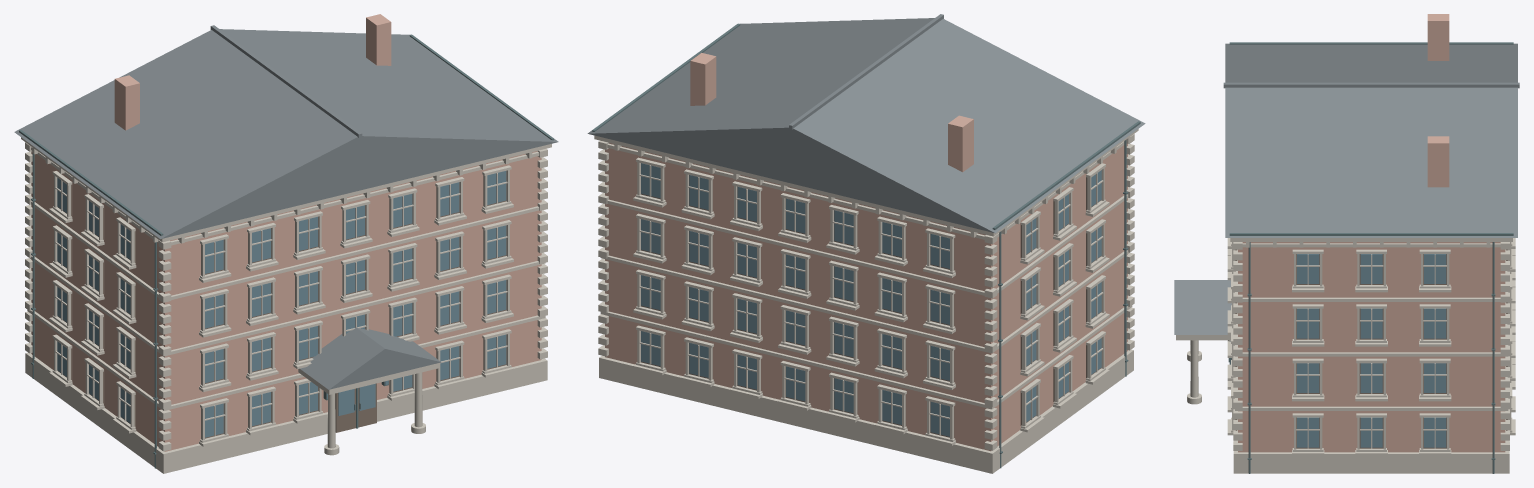
Rendered from education.glb.
The picture shows the model from 3 angles, left to right: view 1: azimuth 30°, elevation 25°; view 2: azimuth 150°, elevation 25°; view 3: azimuth 270°, elevation 25°; orthographic projection. The views are drawn at different scales.
Parts seen in each view (by area): view 1: education-roof, education-stone, education-brick, education-glass, education-wood, education-metal; view 2: education-roof, education-brick, education-stone, education-glass, education-wood, education-metal; view 3: education-roof, education-brick, education-stone, education-glass, education-metal, education-wood.
Boxes of the visible parts, x1,y1,x2,y2 form: education-roof: [14, 25, 558, 389]; education-stone: [21, 137, 551, 473]; education-brick: [31, 14, 541, 451]; education-glass: [57, 171, 506, 437]; education-wood: [57, 171, 506, 438]; education-metal: [19, 34, 553, 468]; education-roof: [587, 14, 1145, 233]; education-brick: [605, 53, 1127, 451]; education-stone: [594, 129, 1138, 473]; education-glass: [641, 163, 1101, 436]; education-wood: [641, 168, 1100, 437]; education-metal: [592, 23, 1140, 468]; education-roof: [1174, 43, 1519, 334]; education-brick: [1238, 14, 1505, 452]; education-stone: [1176, 238, 1515, 473]; education-glass: [1230, 254, 1446, 447]; education-metal: [1228, 42, 1513, 473]; education-wood: [1231, 249, 1507, 448].
Bounding box in the file's own units: 27.5 × 19.9 × 20.65.
